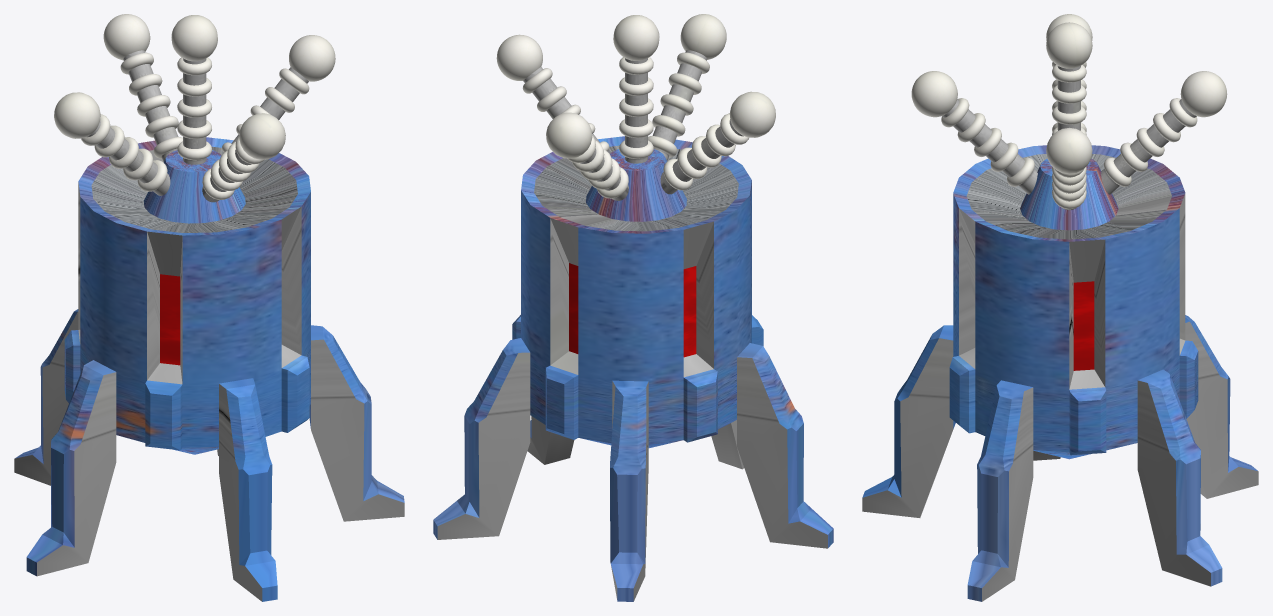
File: Generator.fbx
3 renders of one model, left to right at view 1: azimuth 30°, elevation 25°; view 2: azimuth 150°, elevation 25°; view 3: azimuth 270°, elevation 25°, orthographic.
Visible parts, largest first — view 1: pCylinder12; view 2: pCylinder12; view 3: pCylinder12.
Boxes of the visible parts, x1,y1,x2,y2 form: pCylinder12: [14, 14, 404, 601]; pCylinder12: [433, 14, 833, 601]; pCylinder12: [862, 14, 1258, 601].
Bounding box in the file's own units: 3.41 × 4.73 × 3.41.
